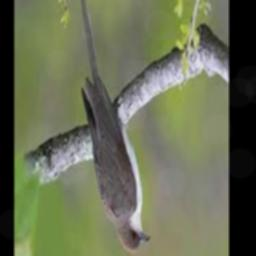Cuckoo: (76, 0, 149, 252)
